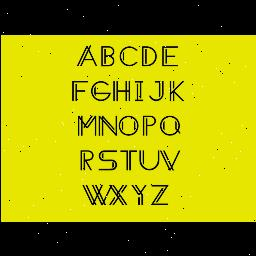b: (76, 42, 102, 66), (97, 43, 117, 69)
c: (118, 42, 138, 72)
d: (140, 42, 158, 72)
e: (160, 44, 184, 72)
f: (64, 77, 90, 105)
g: (90, 74, 112, 106)
h: (112, 76, 130, 104)
i: (130, 77, 146, 103)
j: (148, 76, 166, 100)
k: (166, 74, 186, 104)
m: (72, 110, 98, 138)
n: (98, 112, 120, 138)
o: (118, 114, 140, 138)
p: (140, 112, 156, 136)
r: (76, 148, 96, 172)
s: (98, 147, 118, 173)
t: (117, 148, 137, 170)
u: (138, 147, 160, 175)
v: (162, 144, 182, 172)
x: (108, 184, 128, 208)
z: (152, 178, 172, 210)
